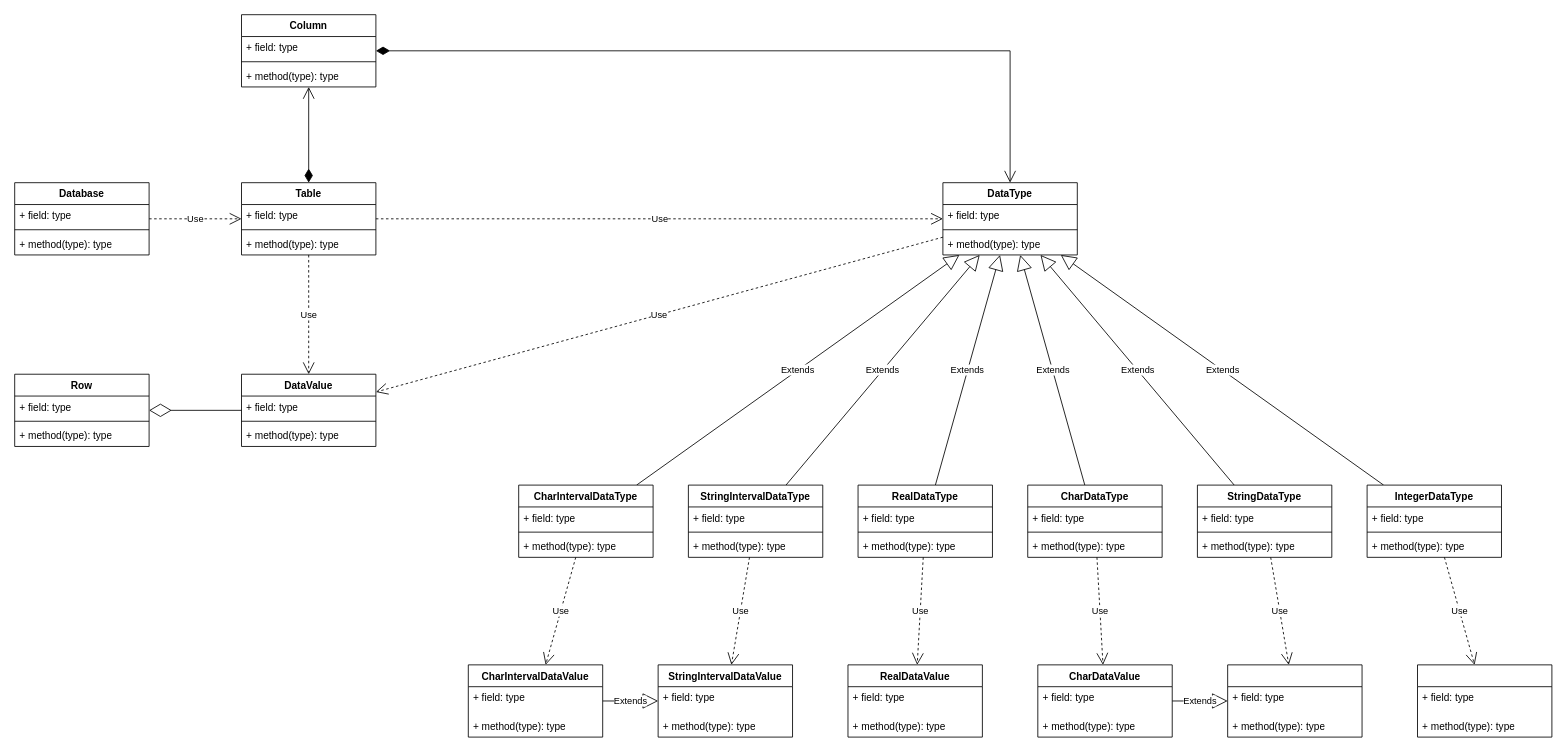
Image size: 1567x754. Some labels were removed from this diagram. Here are the shapes that lost their labels. From the top down, the centre of each, then its label:
point 1294,700: String DataValue
point 1484,700: Integer DataValue
